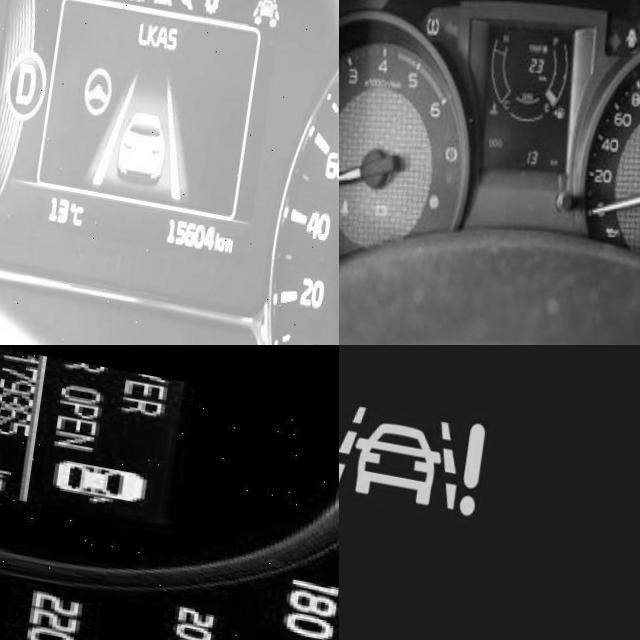Seat Belt: (348, 191, 360, 211)
